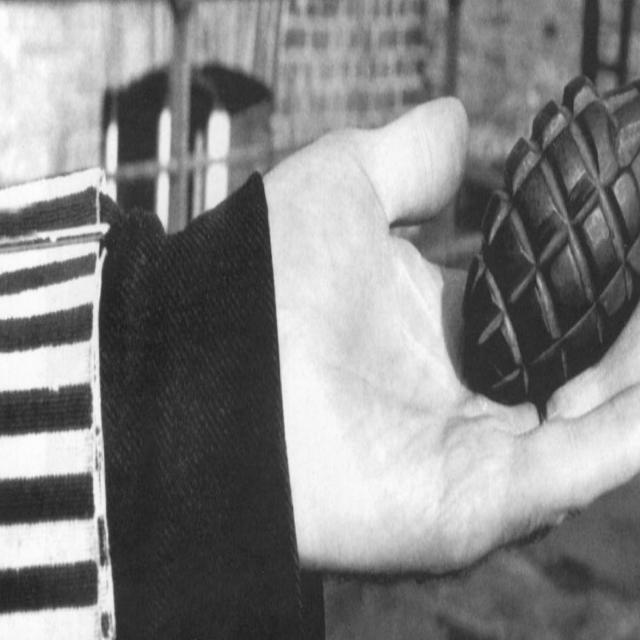grenade: (461, 74, 640, 405)
